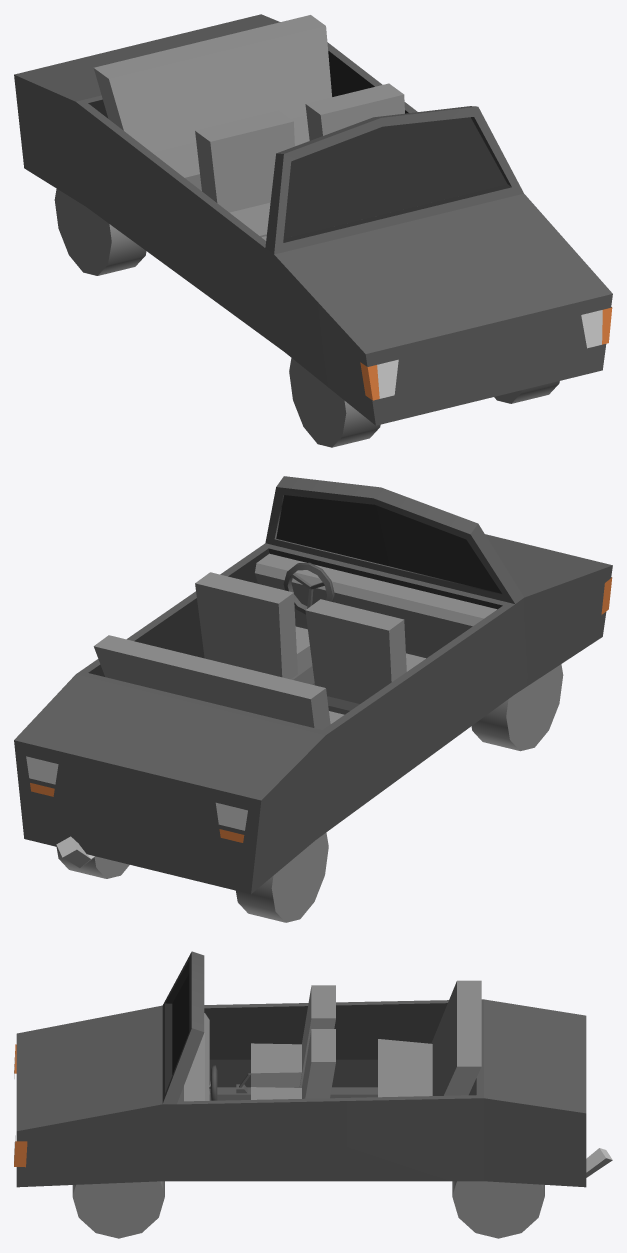
Rendered from cabrio_09.fbx.
3 views of the same model, one above another, from view 1: azimuth 30°, elevation 25°; view 2: azimuth 150°, elevation 25°; view 3: azimuth 270°, elevation 25° (orthographic). The views are drawn at different scales.
Visible parts, largest first — view 1: cabrio_09; view 2: cabrio_09; view 3: cabrio_09.
Boxes of the visible parts, x1=… form: cabrio_09: x1=14, y1=14, x2=612, y2=447; cabrio_09: x1=14, y1=476, x2=612, y2=922; cabrio_09: x1=14, y1=951, x2=612, y2=1238.
Bounding box in the file's own units: 1.6 × 1.63 × 4.1.
